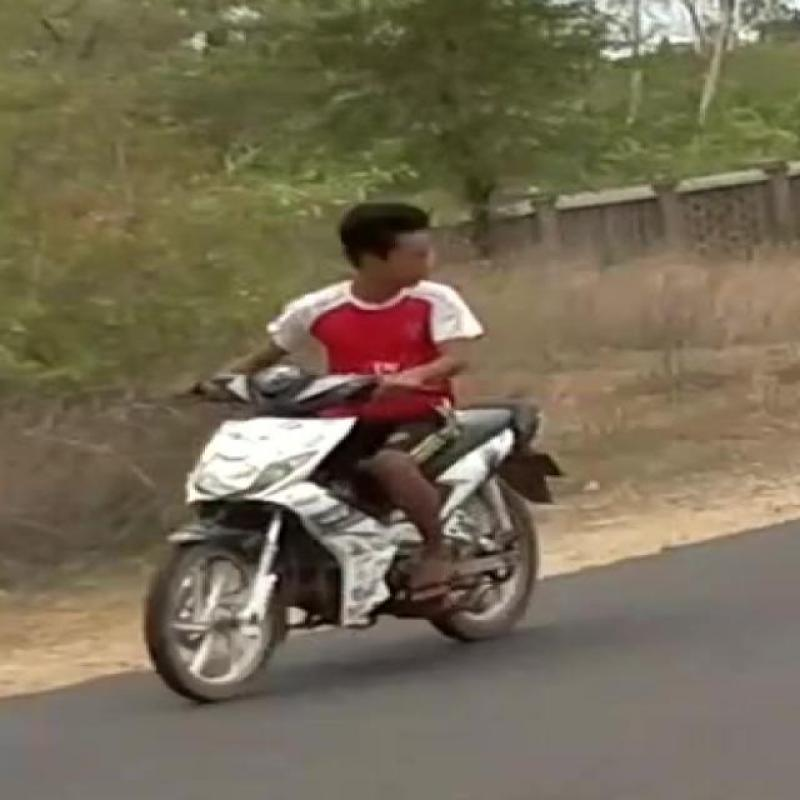nohelmet: (320, 182, 456, 313)
